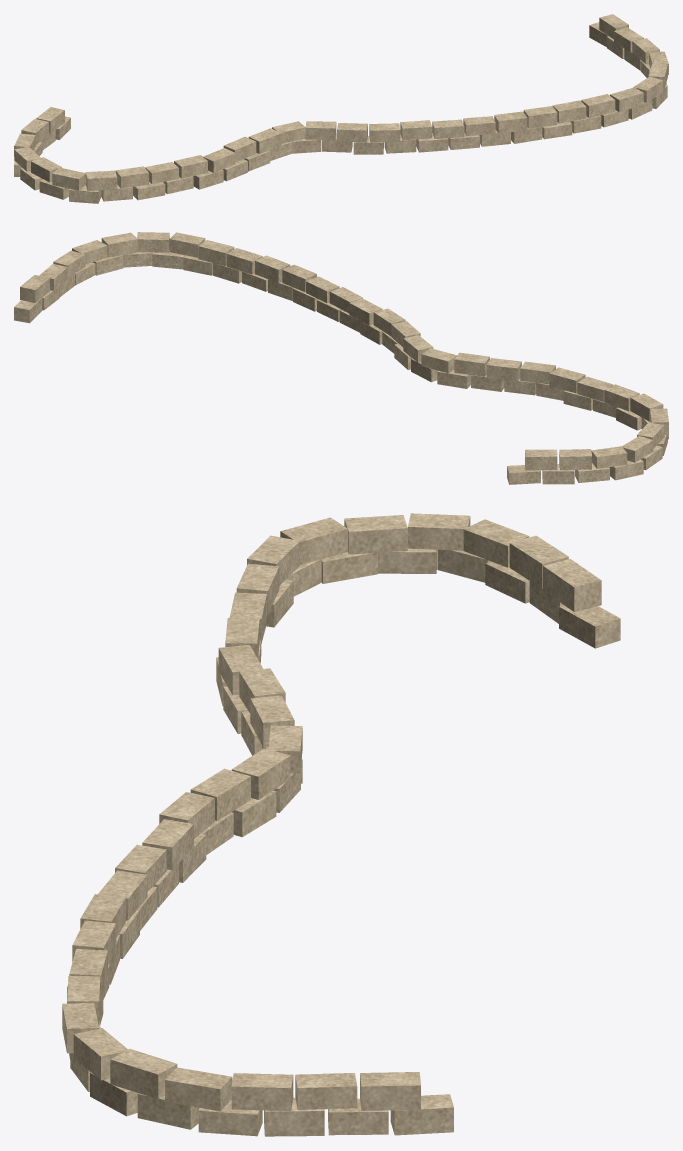
File: SM_Yard_StoneEdging.fbx
3 views of the same model, one above another, from view 1: azimuth 30°, elevation 25°; view 2: azimuth 150°, elevation 25°; view 3: azimuth 270°, elevation 25° (orthographic). The views are drawn at different scales.
Parts seen in each view (by area): view 1: SM_Yard_StoneEdging; view 2: SM_Yard_StoneEdging; view 3: SM_Yard_StoneEdging.
Part boxes in pixels (x1=…): SM_Yard_StoneEdging: x1=14, y1=14, x2=668, y2=203; SM_Yard_StoneEdging: x1=14, y1=232, x2=668, y2=484; SM_Yard_StoneEdging: x1=62, y1=513, x2=620, y2=1136.
Bounding box in the file's own units: 6.41 × 0.2596 × 2.62.
1 material, 1 textured.
